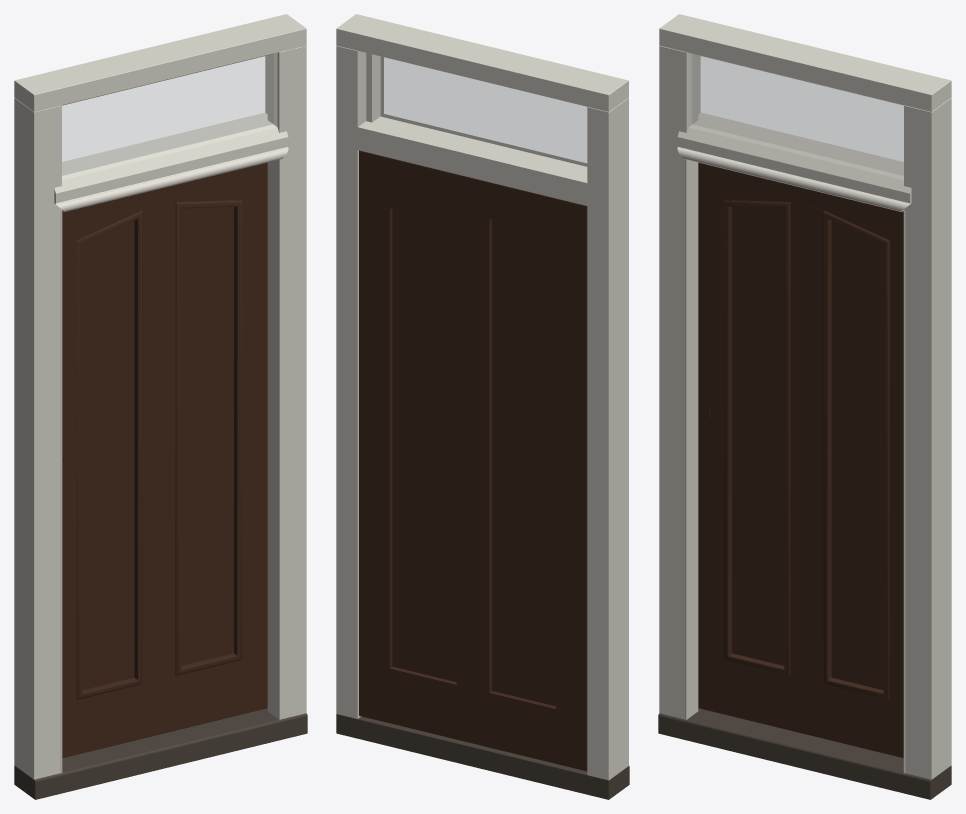
Rendered from door_F3.glb.
3 renders of one model, left to right at view 1: azimuth 30°, elevation 25°; view 2: azimuth 150°, elevation 25°; view 3: azimuth 330°, elevation 25°, orthographic.
Visible parts, largest first — view 1: leaf_frame, frame_jamb_L, frame_jamb_R, panel_long_r, panel_long_l, glass_fanlight, frame_transom, frame_head, stone_threshold, moulding_ovolo_long_l, moulding_ovolo_long_r, frame_stop_bead_L (+2 smaller); view 2: leaf_frame, panel_long_r, panel_long_l, frame_jamb_L, frame_jamb_R, glass_fanlight, frame_head, frame_transom, stone_threshold, frame_glazing_bead; view 3: leaf_frame, frame_jamb_R, frame_jamb_L, panel_long_l, panel_long_r, glass_fanlight, frame_transom, frame_head, stone_threshold, moulding_ovolo_long_r, moulding_ovolo_long_l, frame_stop_bead_R (+2 smaller).
Part boxes in pixels (bbox=[...]): leaf_frame: bbox=[62, 162, 267, 758]; frame_jamb_L: bbox=[14, 97, 61, 779]; frame_jamb_R: bbox=[265, 45, 306, 719]; panel_long_r: bbox=[181, 206, 233, 665]; panel_long_l: bbox=[82, 221, 134, 690]; glass_fanlight: bbox=[62, 54, 273, 175]; frame_transom: bbox=[54, 112, 288, 211]; frame_head: bbox=[14, 14, 306, 111]; stone_threshold: bbox=[14, 708, 307, 799]; moulding_ovolo_long_l: bbox=[76, 210, 142, 700]; moulding_ovolo_long_r: bbox=[175, 200, 242, 675]; frame_stop_bead_L: bbox=[60, 210, 62, 773]; leaf_frame: bbox=[359, 150, 587, 771]; panel_long_r: bbox=[392, 208, 456, 681]; panel_long_l: bbox=[492, 220, 555, 706]; frame_jamb_L: bbox=[587, 98, 628, 780]; frame_jamb_R: bbox=[336, 45, 380, 718]; glass_fanlight: bbox=[381, 57, 586, 166]; frame_head: bbox=[336, 14, 628, 111]; frame_transom: bbox=[357, 116, 587, 205]; stone_threshold: bbox=[336, 714, 629, 799]; frame_glazing_bead: bbox=[381, 56, 587, 166]; leaf_frame: bbox=[698, 162, 903, 758]; frame_jamb_R: bbox=[904, 97, 951, 779]; frame_jamb_L: bbox=[659, 45, 700, 719]; panel_long_l: bbox=[732, 206, 784, 665]; panel_long_r: bbox=[831, 221, 883, 690]; glass_fanlight: bbox=[692, 54, 903, 175]; frame_transom: bbox=[677, 112, 911, 211]; frame_head: bbox=[659, 14, 951, 111]; stone_threshold: bbox=[658, 708, 951, 799]; moulding_ovolo_long_r: bbox=[823, 210, 889, 700]; moulding_ovolo_long_l: bbox=[723, 200, 790, 675]; frame_stop_bead_R: bbox=[903, 210, 905, 773].
Bounding box in the file's own units: 1 × 2.47 × 0.149.
